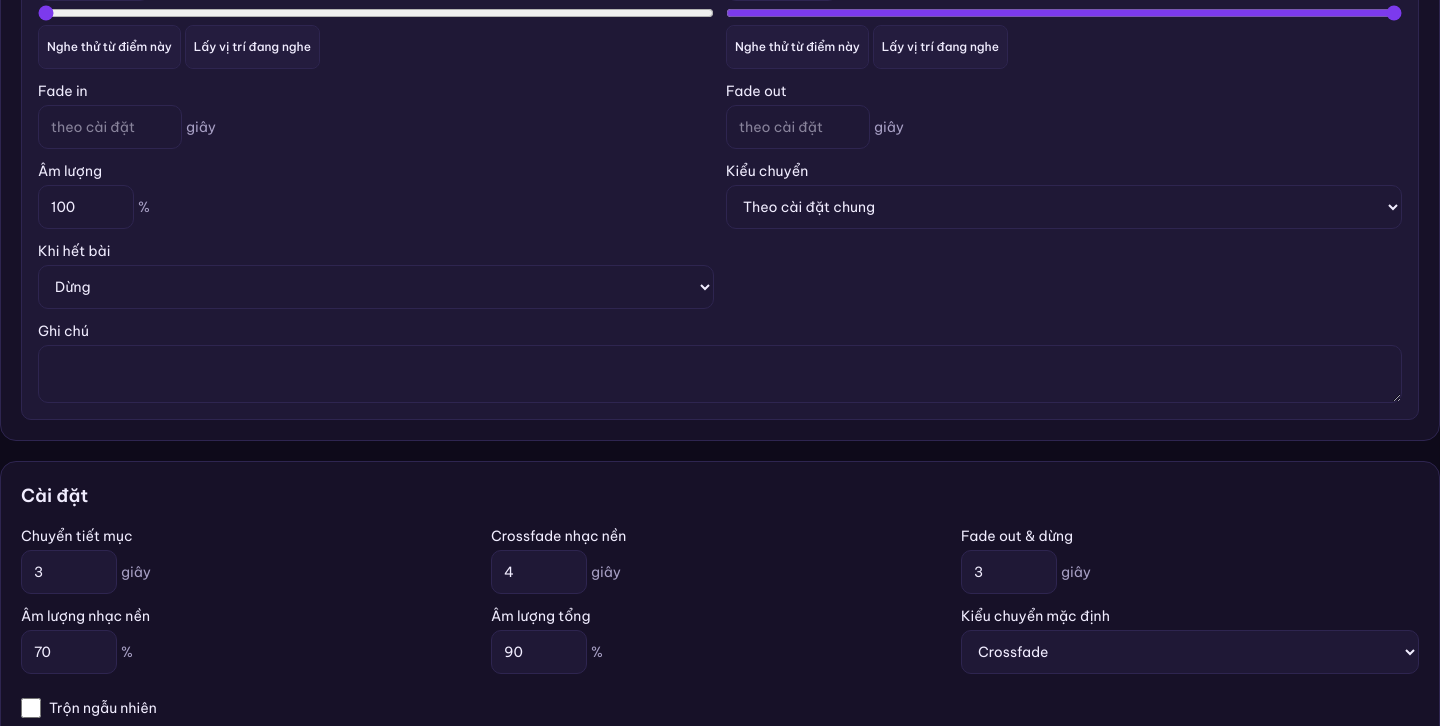
EditorClient › transition fields › the default transition drives the row text of cues without their own
(page scrolled)
Select "Fade out → In" in the dropdown labelled "Kiểu chuyển mặc định". click: (1190, 652)
box: [961,630,1419,674]
(page scrolled)
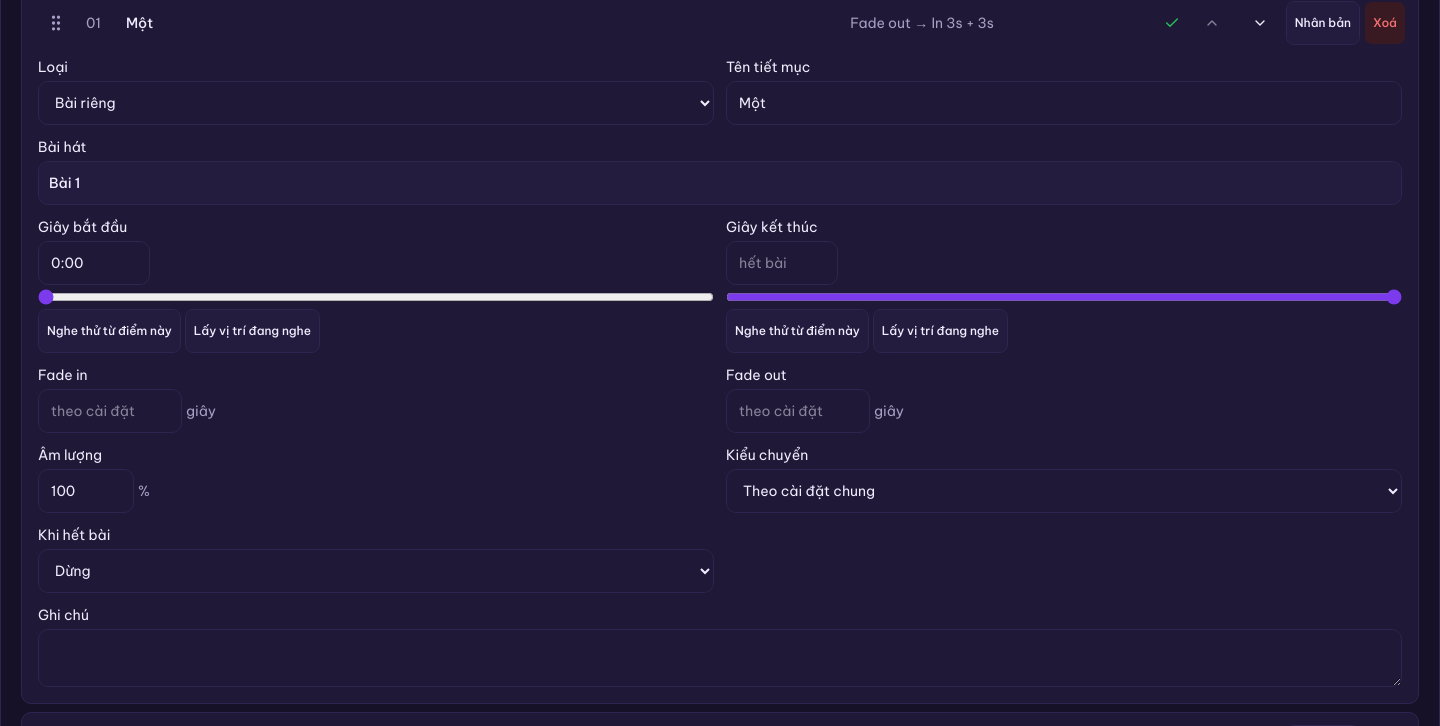
Now the element with test id "cue-item" shows "Fade out → In 3s + 3s", box [850,14,994,32]
